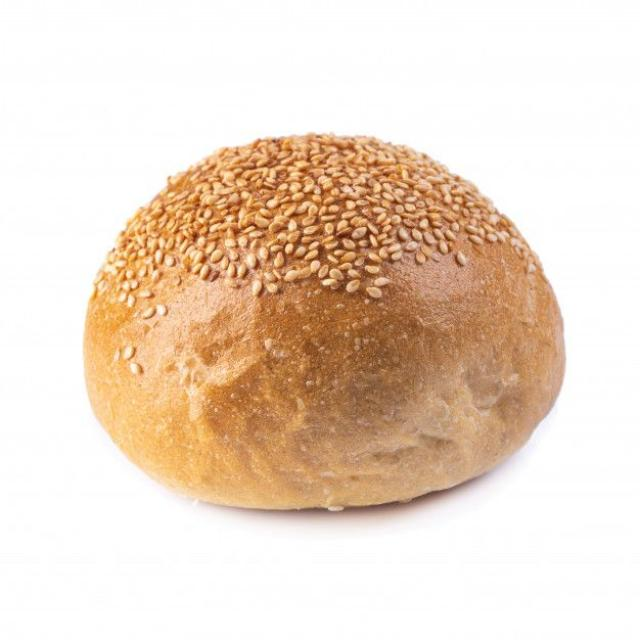bread: (84, 135, 564, 509)
